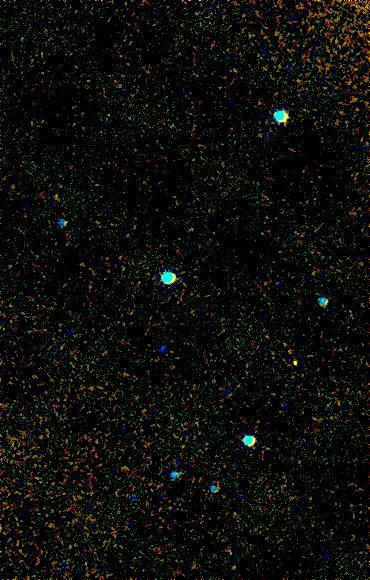star: (279, 348, 309, 378)
